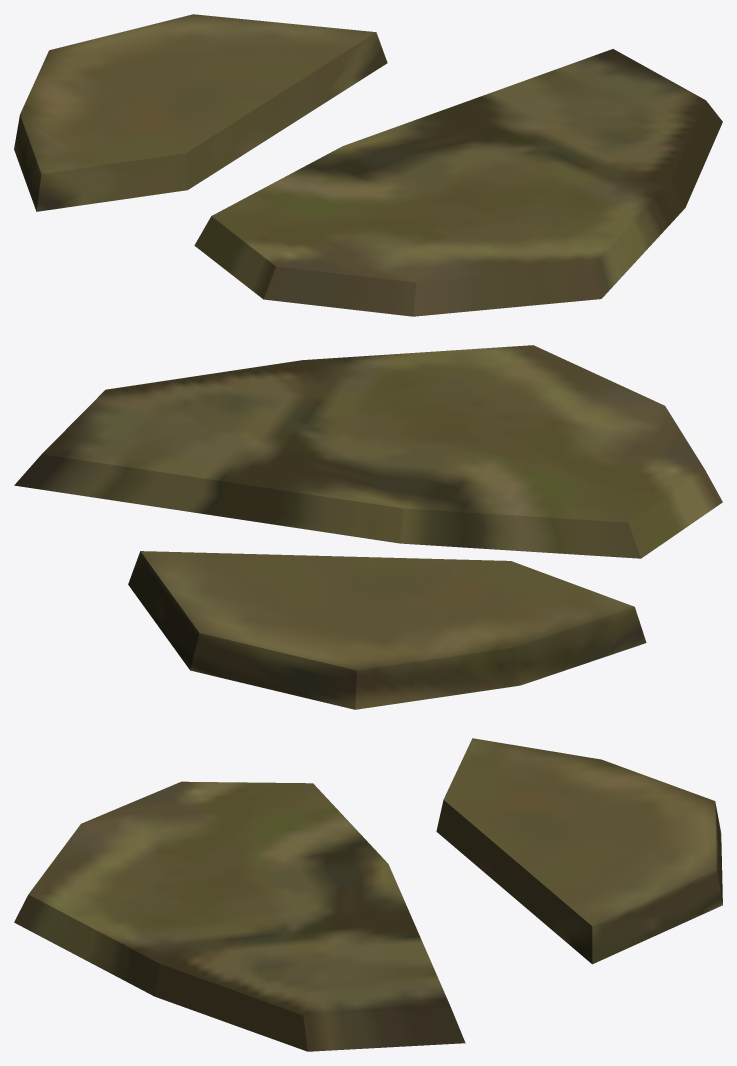
Rendered from paver_05.fbx.
3 views of the same model, one above another, from view 1: azimuth 30°, elevation 25°; view 2: azimuth 150°, elevation 25°; view 3: azimuth 270°, elevation 25° (orthographic). The views are drawn at different scales.
Parts seen in each view (by area): view 1: obj0.182; view 2: obj0.182; view 3: obj0.182.
Boxes of the visible parts, x1,y1,x2,y2 form: obj0.182: [14, 14, 722, 316]; obj0.182: [14, 345, 722, 709]; obj0.182: [14, 738, 722, 1051].
Size of the model in its own units: 1 by 0.0535 by 1.05.
